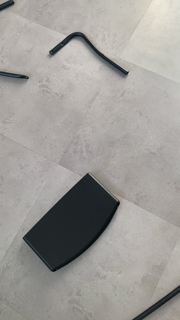Back: (20, 170, 124, 276)
L pipe: (47, 29, 133, 82)
